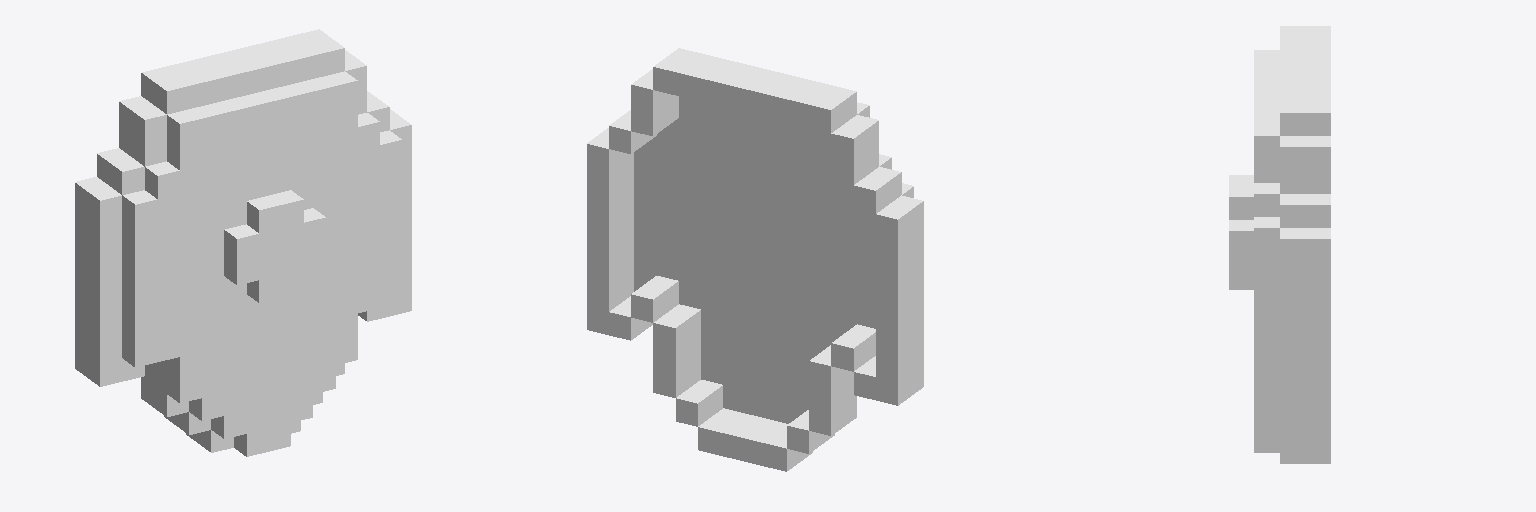
File: Sheald.obj
3 views of the same model, side by side, from view 1: azimuth 30°, elevation 25°; view 2: azimuth 150°, elevation 25°; view 3: azimuth 270°, elevation 25° (orthographic).
Parts seen in each view (by area): view 1: object 1; view 2: object 1; view 3: object 1.
Part boxes in pixels (left/top/right/bottom): object 1: left=75, top=29, right=411, bottom=456; object 1: left=587, top=48, right=923, bottom=471; object 1: left=1229, top=26, right=1330, bottom=463.
Bounding box in the file's own units: 1.4 × 1.6 × 0.4.